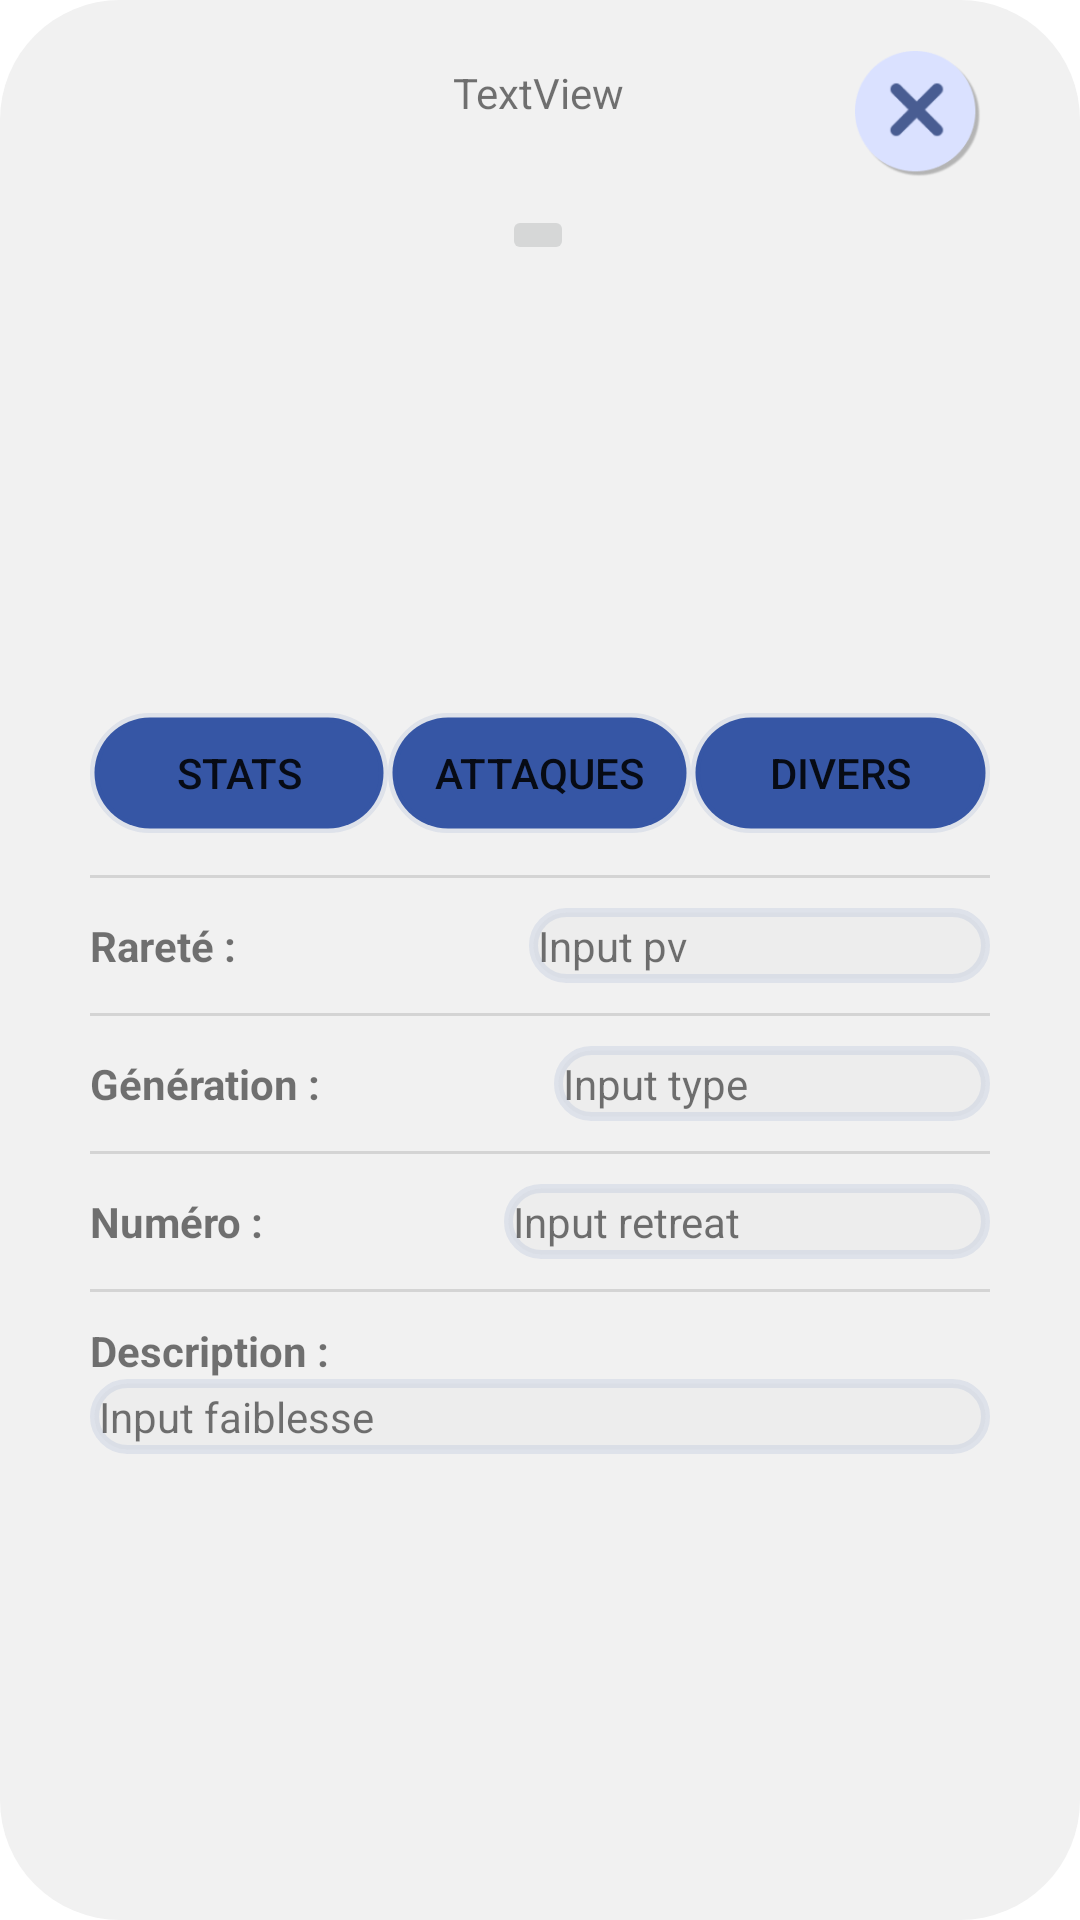

Where to tap for icons on this 1080px x 1920px app screen, as (x,y):
close: (917,113)
